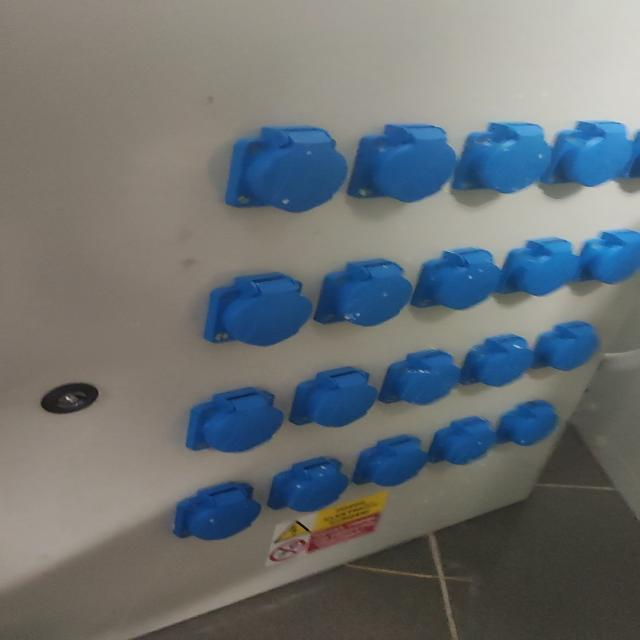house plug covered: (223, 127, 348, 215), (351, 125, 457, 206), (202, 273, 313, 350), (452, 122, 552, 195), (313, 259, 415, 329), (183, 385, 284, 454), (539, 120, 633, 187), (411, 247, 501, 310), (172, 482, 262, 543), (289, 366, 377, 428), (377, 348, 460, 406), (496, 241, 580, 296), (267, 457, 348, 512), (352, 435, 427, 487), (459, 334, 533, 386), (578, 229, 640, 285), (536, 321, 598, 371), (430, 419, 497, 465), (497, 403, 556, 447)
